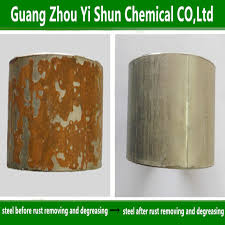rust: (14, 58, 103, 172)
